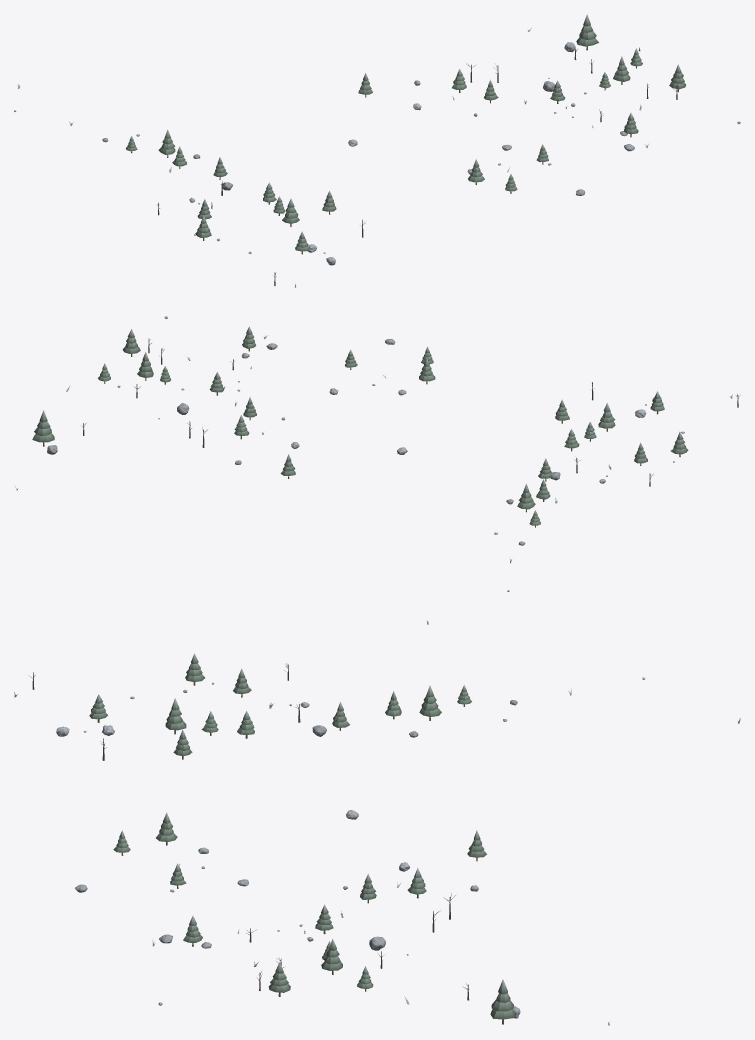
The model's file is frost_land_scatter_c15_09.glb.
3 renders of one model, top to bottom at view 1: azimuth 30°, elevation 25°; view 2: azimuth 150°, elevation 25°; view 3: azimuth 270°, elevation 25°, orthographic. The views are drawn at different scales.
Visible parts, largest first — view 1: frost_land_scatter_c15_09; view 2: frost_land_scatter_c15_09; view 3: frost_land_scatter_c15_09.
Part boxes in pixels (bbox=[...]): frost_land_scatter_c15_09: bbox=[14, 14, 740, 287]; frost_land_scatter_c15_09: bbox=[14, 316, 740, 624]; frost_land_scatter_c15_09: bbox=[14, 653, 740, 1025].
Bounding box in the file's own units: 255 × 27.73 × 239.
